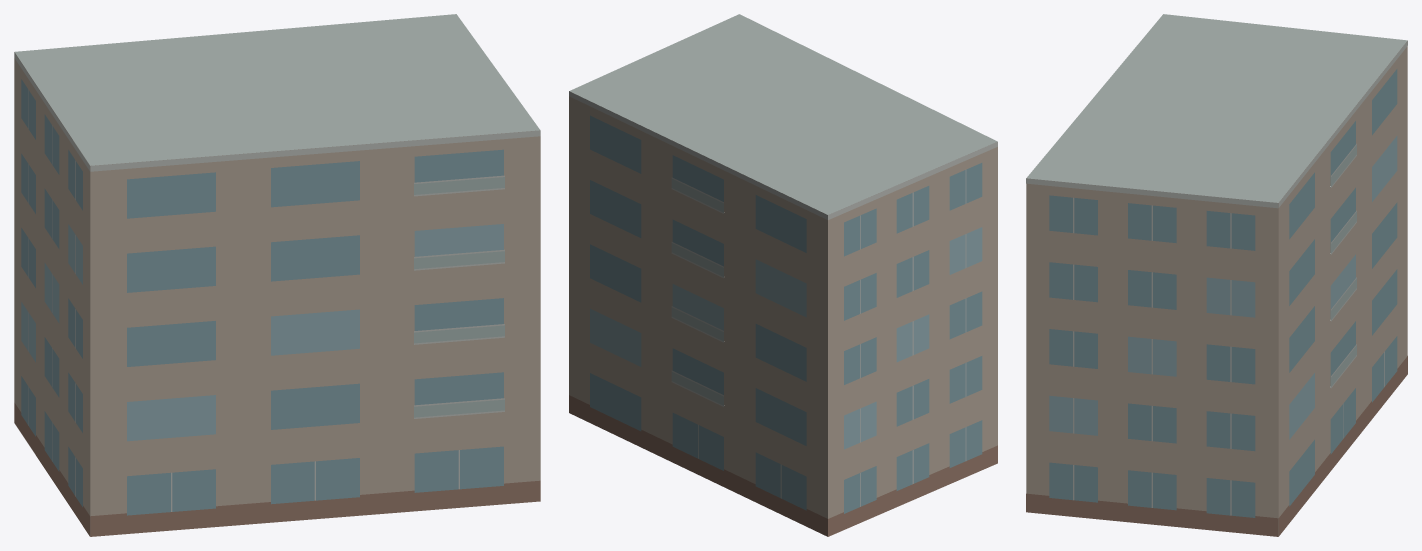
Rendered from survey-upis-32740111.glb.
The picture shows the model from 3 angles, left to right: view 1: azimuth 30°, elevation 25°; view 2: azimuth 150°, elevation 25°; view 3: azimuth 270°, elevation 25°; orthographic projection. The views are drawn at different scales.
Visible parts, largest first — view 1: survey-upis-32740111.tmp; view 2: survey-upis-32740111.tmp; view 3: survey-upis-32740111.tmp.
Boxes of the visible parts, left/top/right/bottom form: survey-upis-32740111.tmp: left=14, top=14, right=540, bottom=536; survey-upis-32740111.tmp: left=569, top=14, right=997, bottom=536; survey-upis-32740111.tmp: left=1026, top=14, right=1407, bottom=536.
Bounding box in the file's own units: 18.52 × 15.25 × 15.81.
